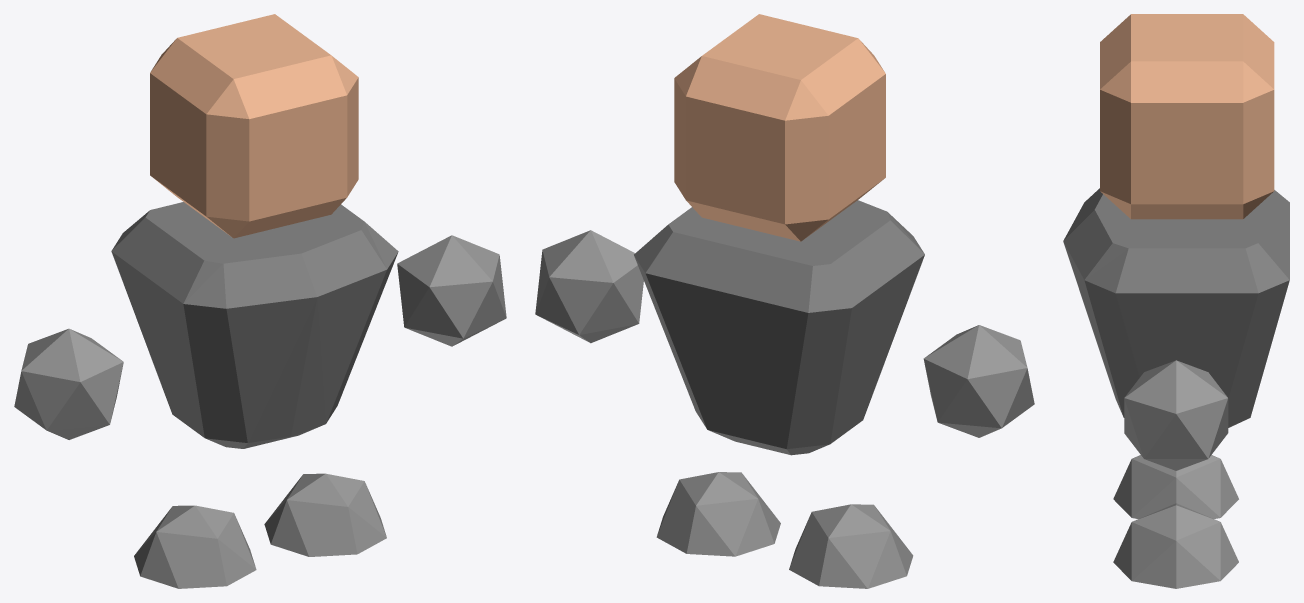
Rendered from Poly_Character_M.FBX.
The picture shows the model from 3 angles, left to right: view 1: azimuth 30°, elevation 25°; view 2: azimuth 150°, elevation 25°; view 3: azimuth 270°, elevation 25°; orthographic projection. The views are drawn at different scales.
Visible parts, largest first — view 1: Box001, Box002, Object001, GeoSphere003, GeoSphere005, GeoSphere004; view 2: Box001, Box002, Object001, GeoSphere003, GeoSphere005, GeoSphere004; view 3: Box001, Box002, Object001, GeoSphere004, GeoSphere005.
Part boxes in pixels (x1,y1,x2,y2): Box001: (111,202,398,448); Box002: (150,14,358,238); Object001: (397,235,506,346); GeoSphere003: (14,328,123,439); GeoSphere005: (134,505,256,588); GeoSphere004: (264,473,386,556); Box001: (634,200,924,455); Box002: (674,14,885,241); Object001: (535,230,643,343); GeoSphere003: (923,325,1034,437); GeoSphere005: (789,504,913,588); GeoSphere004: (656,472,780,556); Box001: (1063,188,1289,427); Box002: (1100,14,1274,219); Object001: (1124,360,1228,470); GeoSphere004: (1113,503,1238,588); GeoSphere005: (1113,455,1238,518).
Bounding box in the file's own units: 43.28 × 42.94 × 17.91.
